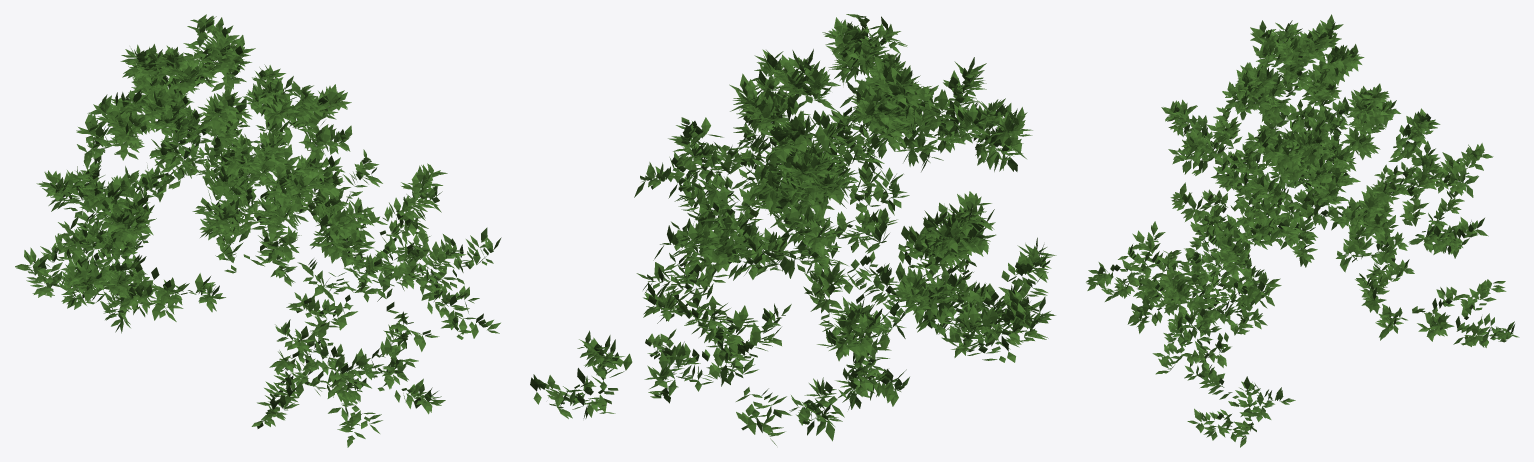
Rendered from leaves_lod_2.glb.
3 renders of one model, left to right at view 1: azimuth 30°, elevation 25°; view 2: azimuth 150°, elevation 25°; view 3: azimuth 270°, elevation 25°, orthographic. The views are drawn at different scales.
Bounding box in the file's own units: 10.36 × 10.28 × 10.91.
